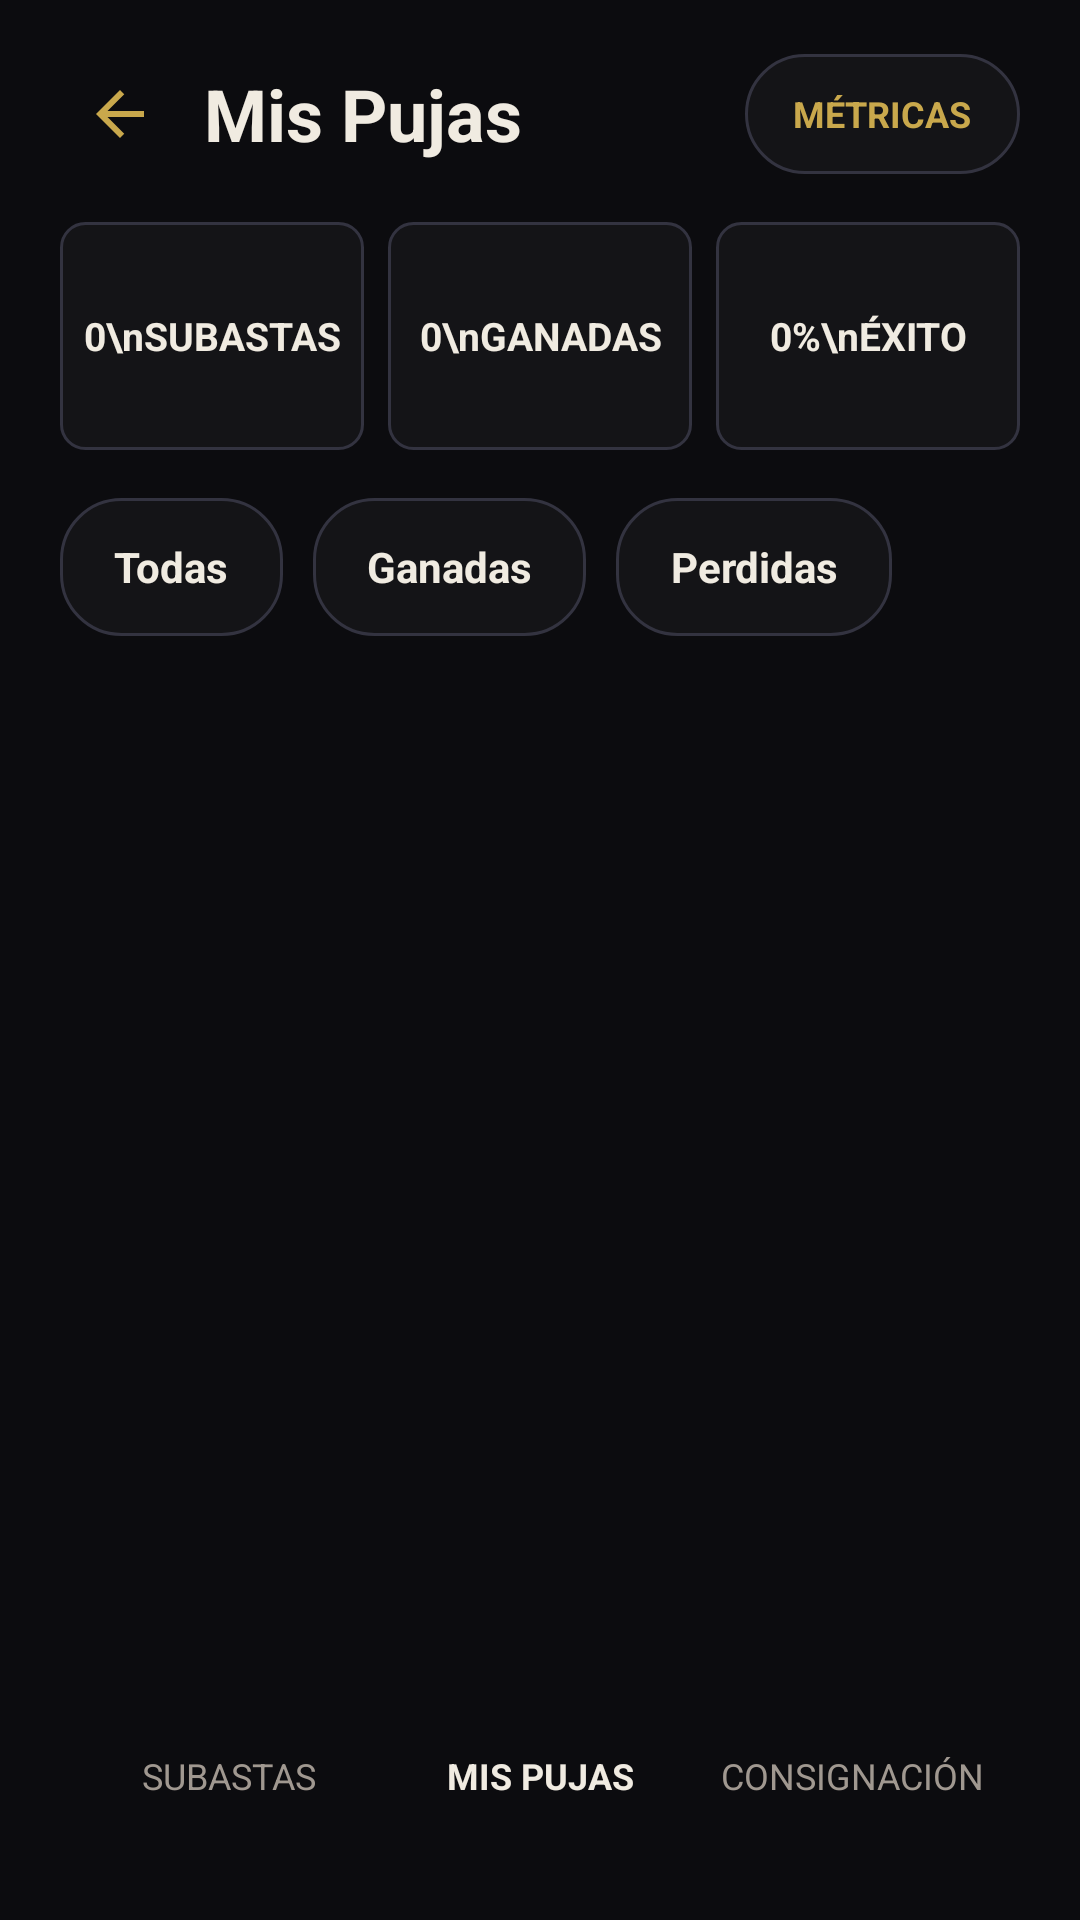

Point at icon controls on the screen. Image size 1080 × 1920, points as (x,y).
Volver: (120,114)
